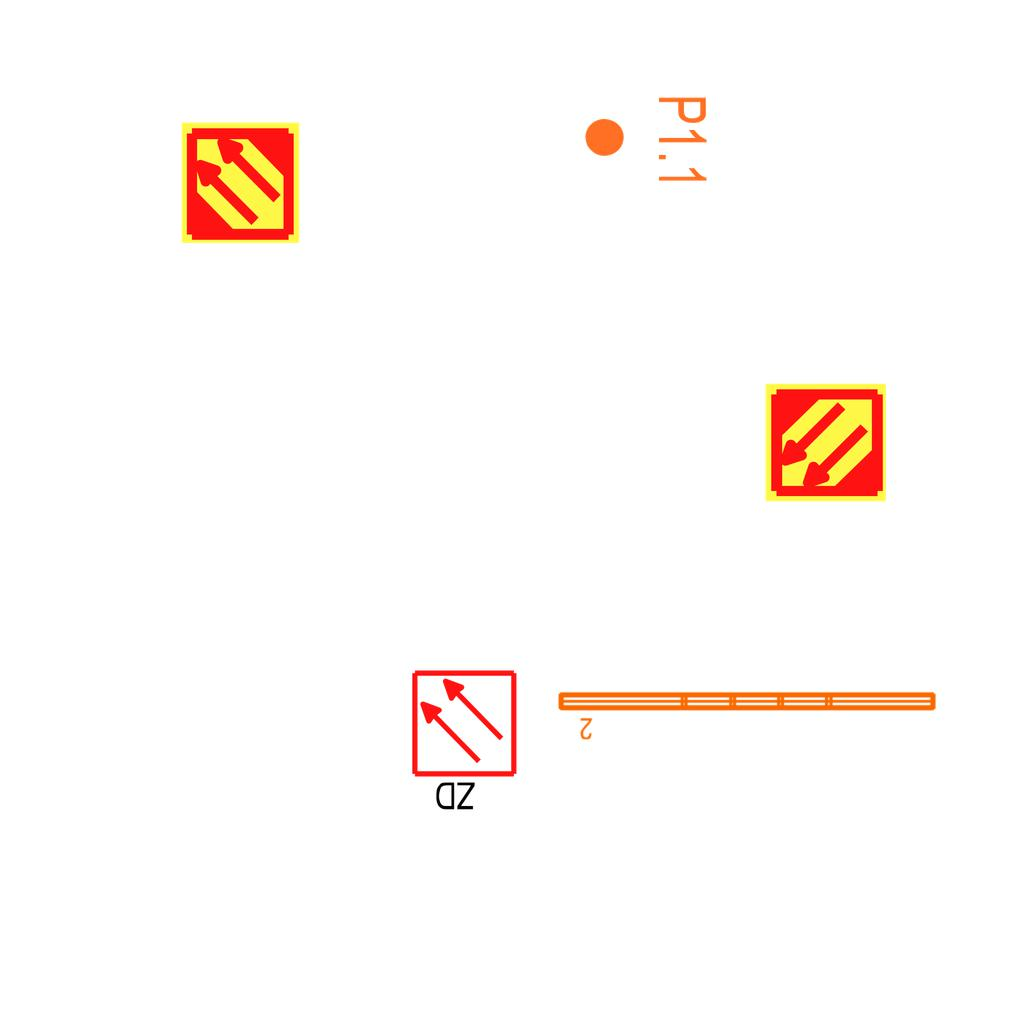ASR_Ansaugrauchmelder: (763, 380, 888, 505), (178, 120, 303, 245)
Ambulanz_Pendelleuchte_LED: (554, 686, 941, 742)
Downlight_LED_Einbauleuchten_Flur: (582, 94, 710, 187)
ZD_Melder_in_Zwischendecke_mit_Revisionsoeffnung_mind_40_x_40_cm: (409, 668, 523, 817)
